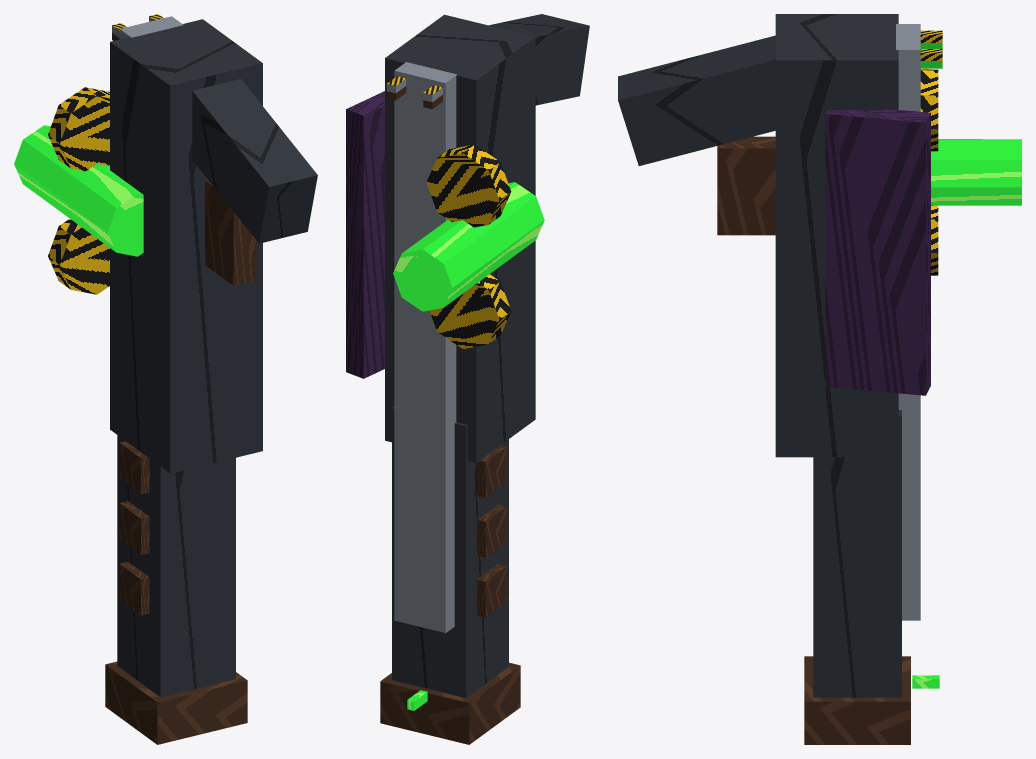
File: blaster.glb
3 views of the same model, side by side, from view 1: azimuth 30°, elevation 25°; view 2: azimuth 150°, elevation 25°; view 3: azimuth 270°, elevation 25° (orthographic). The views are drawn at different scales.
Parts seen in each view (by area): view 1: Receiver_Frame, Heavy_Barrel, Grip_Handle, Alien_BioCanister, Muzzle_Brake, Canister_Clamp.001, Trigger_Guard, Canister_Clamp, Vent_Frame_L_1, Vent_Frame_L_2, Vent_Frame_L_0, Sight_Rail; view 2: Receiver_Frame, Sight_Rail, Heavy_Barrel, Alien_Chitin_Plate, Alien_BioCanister, Muzzle_Brake, Canister_Clamp.001, Grip_Handle, Canister_Clamp, Vent_Frame_L_1, Vent_Frame_L_2, Vent_Frame_L_0; view 3: Receiver_Frame, Alien_Chitin_Plate, Heavy_Barrel, Grip_Handle, Sight_Rail, Alien_BioCanister, Muzzle_Brake, Trigger_Guard, Canister_Clamp.001.
Boxes of the visible parts, <box> form: Receiver_Frame: <box>110,19,262,473</box>; Heavy_Barrel: <box>117,435,235,697</box>; Grip_Handle: <box>192,79,317,243</box>; Alien_BioCanister: <box>14,125,143,256</box>; Muzzle_Brake: <box>105,661,247,744</box>; Canister_Clamp.001: <box>48,87,109,171</box>; Trigger_Guard: <box>205,179,256,285</box>; Canister_Clamp: <box>48,219,109,294</box>; Vent_Frame_L_1: <box>119,501,149,554</box>; Vent_Frame_L_2: <box>119,562,149,615</box>; Vent_Frame_L_0: <box>119,441,149,494</box>; Sight_Rail: <box>119,16,183,39</box>; Receiver_Frame: <box>385,14,535,462</box>; Sight_Rail: <box>394,62,457,632</box>; Heavy_Barrel: <box>392,407,508,697</box>; Alien_Chitin_Plate: <box>346,91,384,378</box>; Alien_BioCanister: <box>393,182,544,311</box>; Muzzle_Brake: <box>380,662,520,744</box>; Canister_Clamp.001: <box>426,144,511,227</box>; Grip_Handle: <box>489,14,589,105</box>; Canister_Clamp: <box>429,274,511,348</box>; Vent_Frame_L_1: <box>477,504,506,557</box>; Vent_Frame_L_2: <box>477,564,506,617</box>; Vent_Frame_L_0: <box>477,445,506,497</box>; Receiver_Frame: <box>775,14,898,457</box>; Alien_Chitin_Plate: <box>825,110,930,395</box>; Heavy_Barrel: <box>813,410,901,697</box>; Grip_Handle: <box>618,35,775,165</box>; Sight_Rail: <box>896,24,920,620</box>; Alien_BioCanister: <box>931,139,1021,205</box>; Muzzle_Brake: <box>804,656,910,744</box>; Trigger_Guard: <box>717,136,775,235</box>; Canister_Clamp.001: <box>920,69,938,151</box>.
Size of the model in its own units: 0.1396 by 0.5525 by 0.2951.
5 materials, 5 textured.
